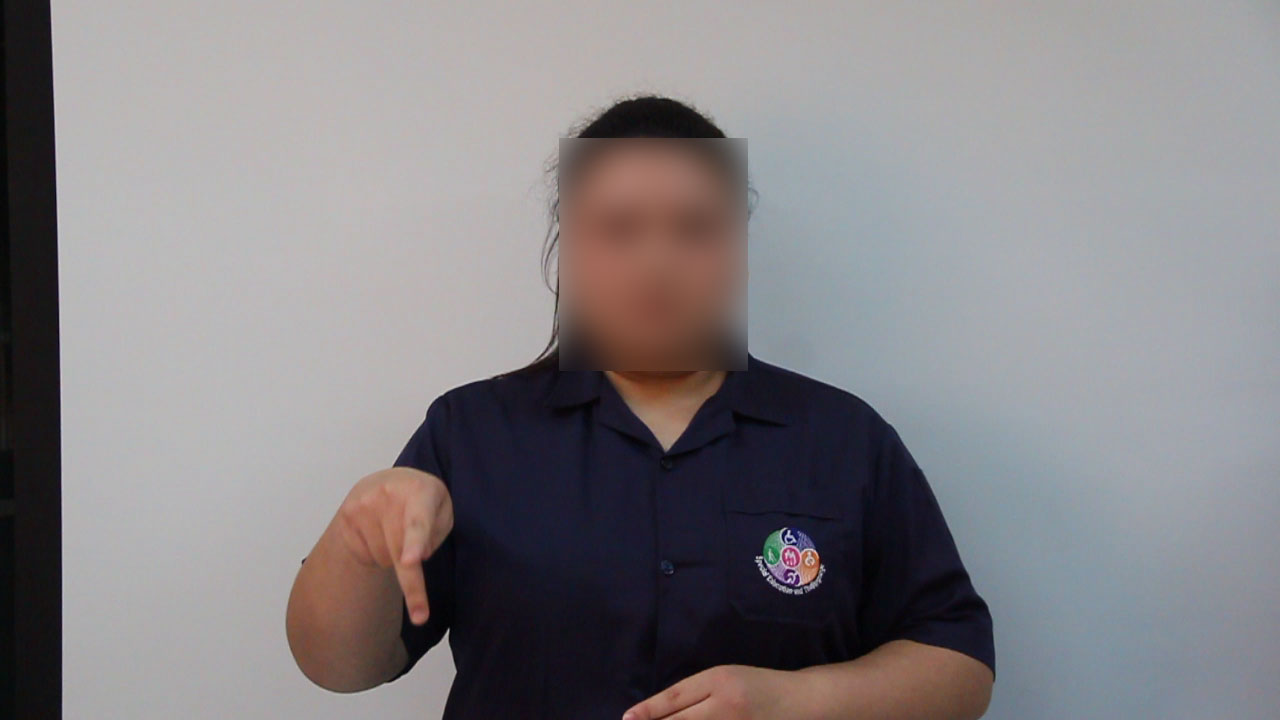por: (334, 443, 465, 637)
